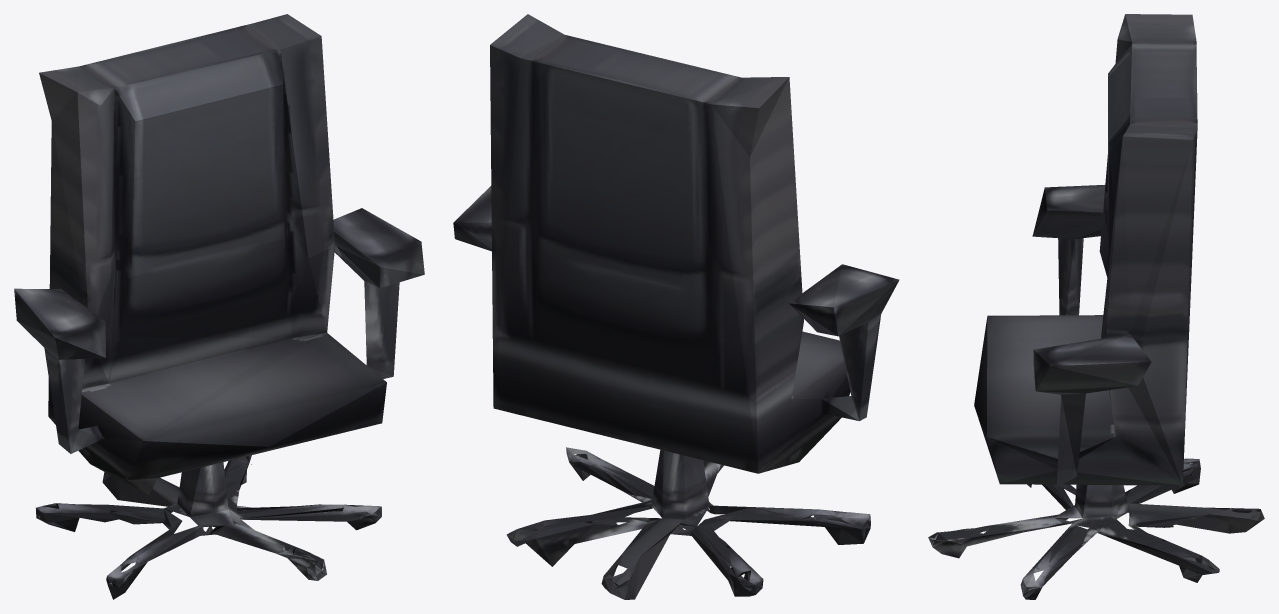
File: chair_textured.gltf
The picture shows the model from 3 angles, left to right: view 1: azimuth 30°, elevation 25°; view 2: azimuth 150°, elevation 25°; view 3: azimuth 270°, elevation 25°; orthographic projection. The views are drawn at different scales.
Visible parts, largest first — view 1: Mesh_0.001; view 2: Mesh_0.001; view 3: Mesh_0.001.
Part boxes in pixels (x1,y1,x2,y2): Mesh_0.001: (14, 14, 424, 599); Mesh_0.001: (453, 14, 899, 599); Mesh_0.001: (928, 14, 1264, 599).
Size of the model in its own units: 1.61 by 1.96 by 1.25.
1 material, 1 textured.
